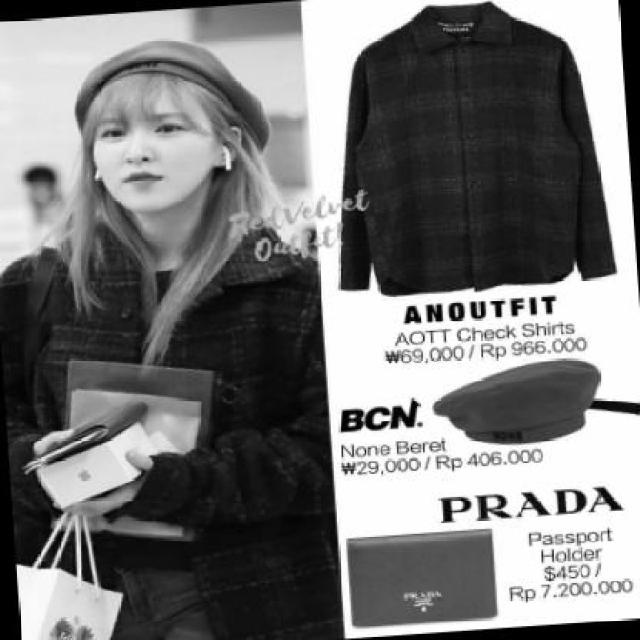earphone: (212, 133, 253, 193), (82, 156, 109, 193)
